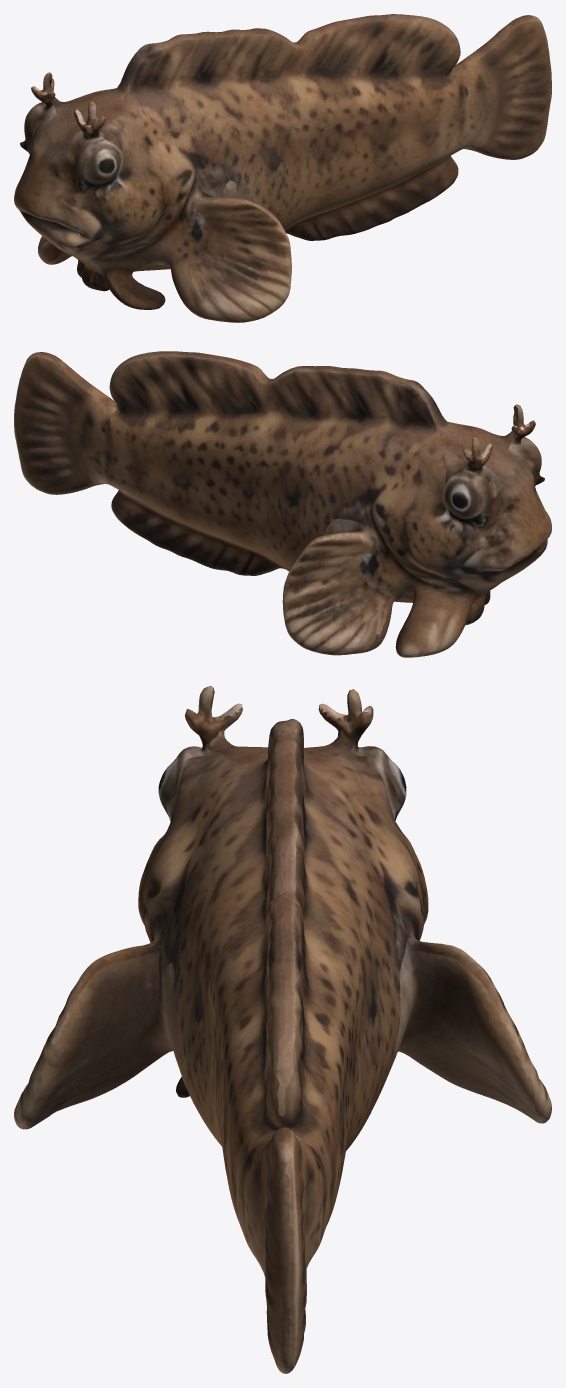
Rendered from blenny.glb.
The picture shows the model from 3 angles, top to bottom: view 1: azimuth 30°, elevation 25°; view 2: azimuth 150°, elevation 25°; view 3: azimuth 270°, elevation 25°; orthographic projection. The views are drawn at different scales.
Visible parts, largest first — view 1: tmp9ib13t3x.ply; view 2: tmp9ib13t3x.ply; view 3: tmp9ib13t3x.ply.
Part boxes in pixels (box(x1,y1,x2,y2)): tmp9ib13t3x.ply: box(14, 14, 551, 322); tmp9ib13t3x.ply: box(14, 351, 551, 657); tmp9ib13t3x.ply: box(14, 686, 551, 1373).
Size of the model in its own units: 0.9875 by 0.4292 by 0.5135.
1 material, 1 textured.
